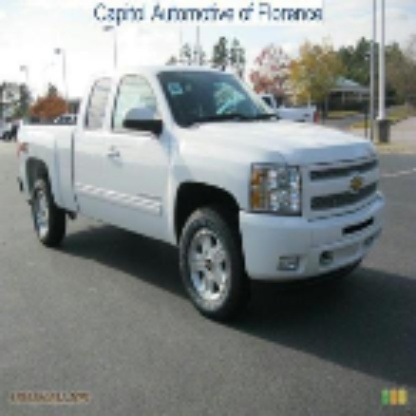Vehicle: (14, 63, 388, 319)
